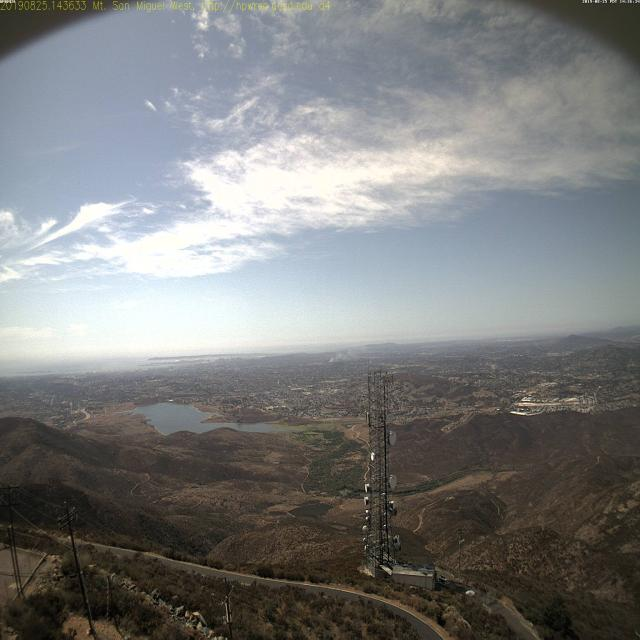smoke: (322, 343, 354, 368)
